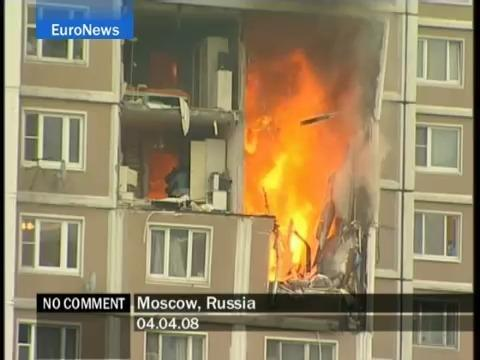fire: (241, 39, 367, 286), (148, 152, 176, 196), (169, 66, 180, 82)
